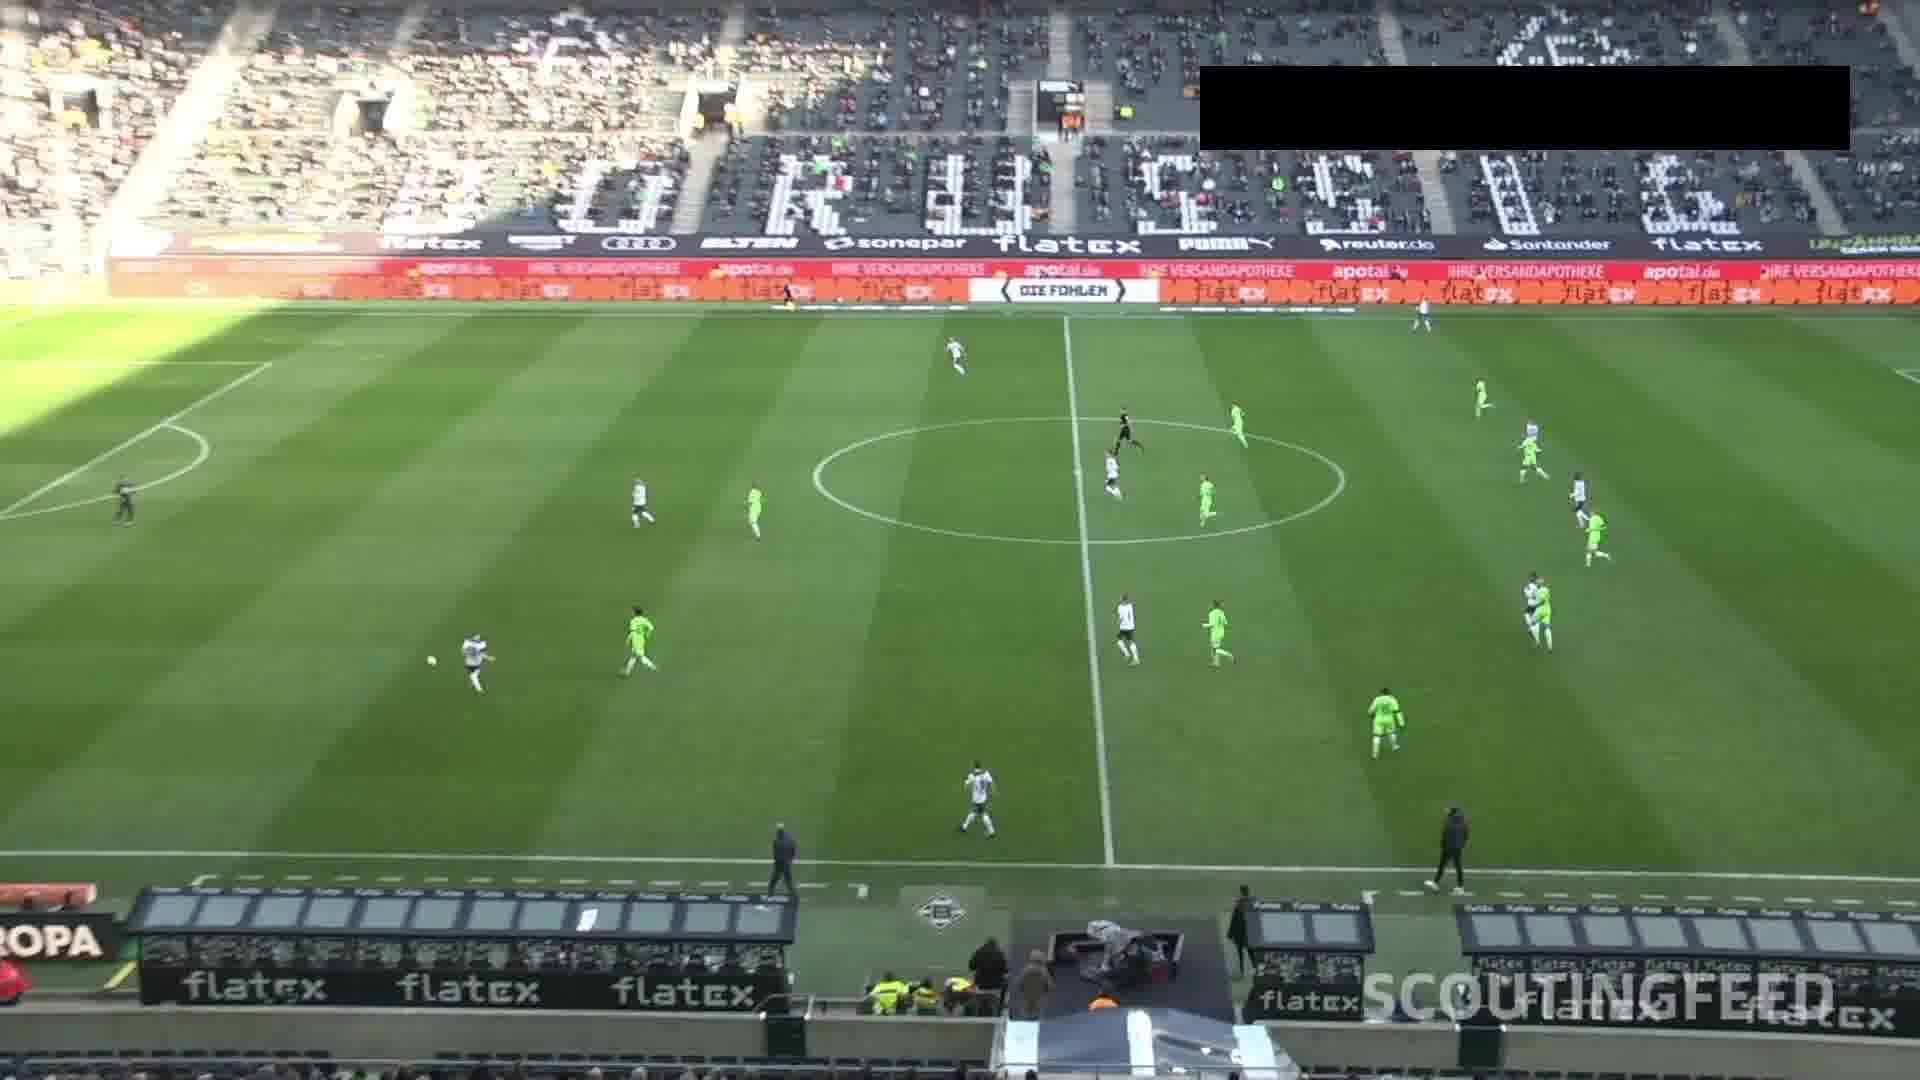football: (425, 655, 439, 670)
